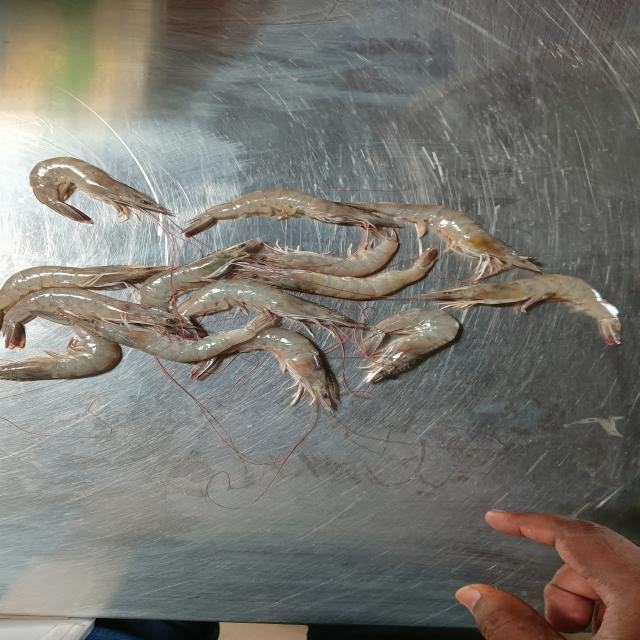shrimp: (348, 202, 538, 278), (423, 275, 620, 345), (190, 328, 339, 411), (2, 288, 193, 349), (53, 314, 274, 362), (235, 248, 438, 300), (184, 189, 398, 236), (29, 156, 170, 224), (177, 279, 361, 328), (139, 239, 263, 306), (0, 265, 168, 310), (243, 230, 398, 278), (363, 308, 458, 382), (0, 325, 122, 380)
